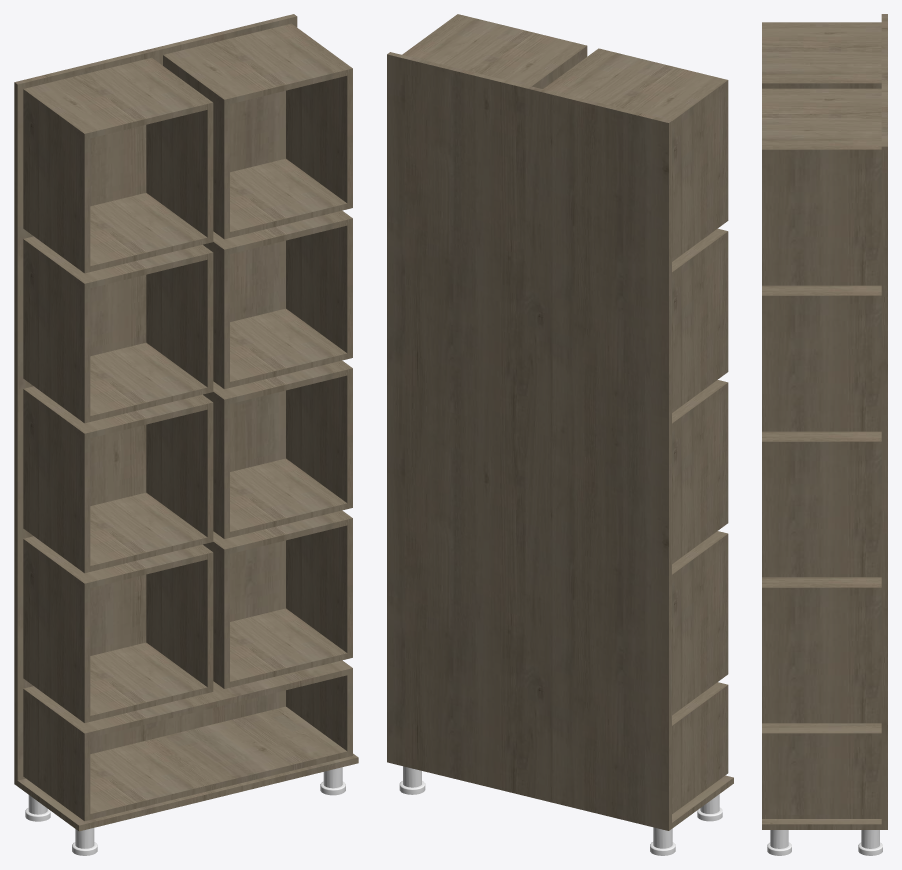
The picture shows the model from 3 angles, left to right: view 1: azimuth 30°, elevation 25°; view 2: azimuth 150°, elevation 25°; view 3: azimuth 270°, elevation 25°; orthographic projection. The views are drawn at different scales.
Parts seen in each view (by area): view 1: Box001, Box002, Box010, Box008, Box004, Box006, Box003, Box005, Box009, Box007; view 2: Box001, Box002, Box004, Box006, Box008, Box003, Box010; view 3: Box003, Box005, Box007, Box009, Box010, Box002, Box001, Cylinder005, Cylinder004.
Boxes of the visible parts, left/top/right/bottom form: Box001: left=14, top=14, right=358, bottom=831; Box002: left=23, top=57, right=213, bottom=273; Box010: left=23, top=660, right=352, bottom=821; Box008: left=23, top=536, right=213, bottom=722; Box004: left=23, top=236, right=213, bottom=423; Box006: left=23, top=386, right=213, bottom=573; Box003: left=163, top=23, right=352, bottom=239; Box005: left=203, top=210, right=352, bottom=389; Box009: left=203, top=510, right=352, bottom=688; Box007: left=203, top=360, right=352, bottom=538; Box001: left=387, top=52, right=733, bottom=830; Box002: left=543, top=48, right=728, bottom=261; Box004: left=672, top=228, right=728, bottom=412; Box006: left=672, top=380, right=728, bottom=563; Box008: left=672, top=531, right=728, bottom=715; Box003: left=402, top=14, right=587, bottom=88; Box010: left=672, top=682, right=728, bottom=813; Box003: left=762, top=88, right=881, bottom=285; Box005: left=762, top=285, right=881, bottom=431; Box007: left=762, top=431, right=881, bottom=577; Box009: left=762, top=577, right=881, bottom=723; Box010: left=762, top=723, right=881, bottom=818; Box002: left=762, top=22, right=881, bottom=88; Box001: left=762, top=14, right=887, bottom=829; Cylinder005: left=767, top=830, right=791, bottom=855; Cylinder004: left=858, top=830, right=882, bottom=855.
Bounding box in the file's own units: 1 × 2.5 × 0.4001.
Materials: 2 (1 with a texture image).
